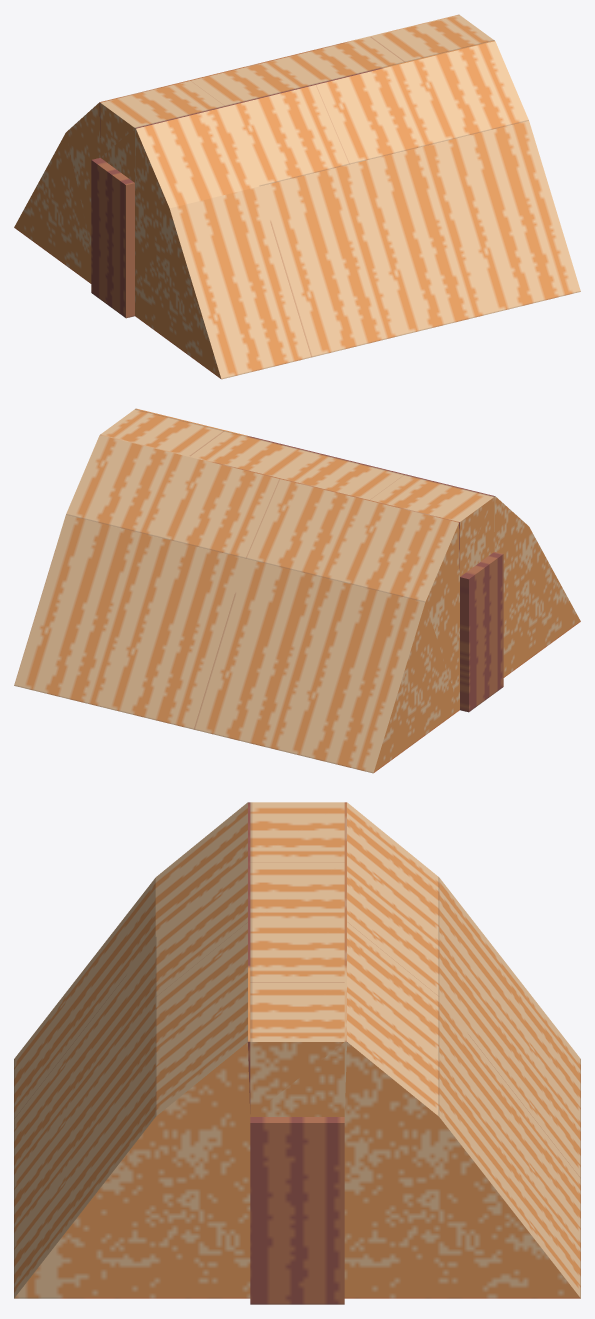
Rendered from blend_farm_house.obj.
3 renders of one model, top to bottom at view 1: azimuth 30°, elevation 25°; view 2: azimuth 150°, elevation 25°; view 3: azimuth 270°, elevation 25°, orthographic. The views are drawn at different scales.
Visible parts, largest first — view 1: Cube; view 2: Cube; view 3: Cube.
Boxes of the visible parts, <box> form: Cube: <box>14,14,580,379</box>; Cube: <box>14,408,580,773</box>; Cube: <box>14,802,580,1304</box>.
Size of the model in its own units: 4.2 by 2 by 4.
Materials: 1 (1 with a texture image).
